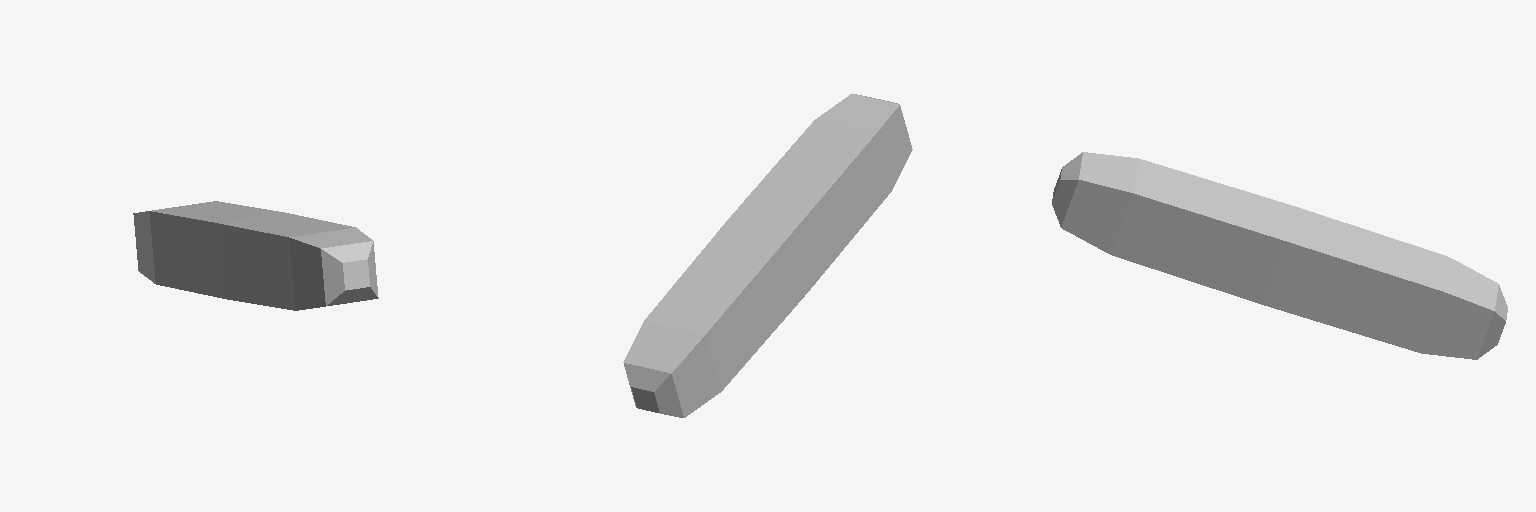
File: right_hand_cp_3_joint.obj
3 renders of one model, left to right at view 1: azimuth 30°, elevation 25°; view 2: azimuth 150°, elevation 25°; view 3: azimuth 270°, elevation 25°, orthographic.
Visible parts, largest first — view 1: ../rami/model/right_hand_cp_3_joint; view 2: ../rami/model/right_hand_cp_3_joint; view 3: ../rami/model/right_hand_cp_3_joint.
Boxes of the visible parts, x1,y1,x2,y2 form: ../rami/model/right_hand_cp_3_joint: [133, 201, 378, 310]; ../rami/model/right_hand_cp_3_joint: [623, 94, 912, 417]; ../rami/model/right_hand_cp_3_joint: [1052, 152, 1507, 359].
Bounding box in the file's own units: 0.0001 × 0.0002 × 0.0005.